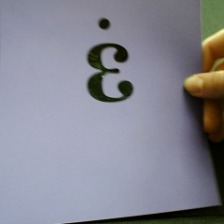violet3: (80, 13, 137, 106)
